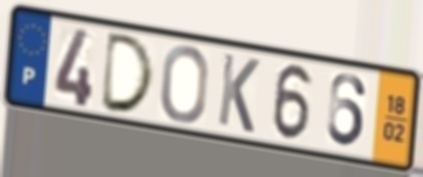4: (50, 23, 96, 111)
6: (271, 61, 314, 144), (326, 72, 368, 150)
D: (97, 29, 157, 117)
K: (215, 50, 262, 137)
O: (158, 43, 211, 126)
